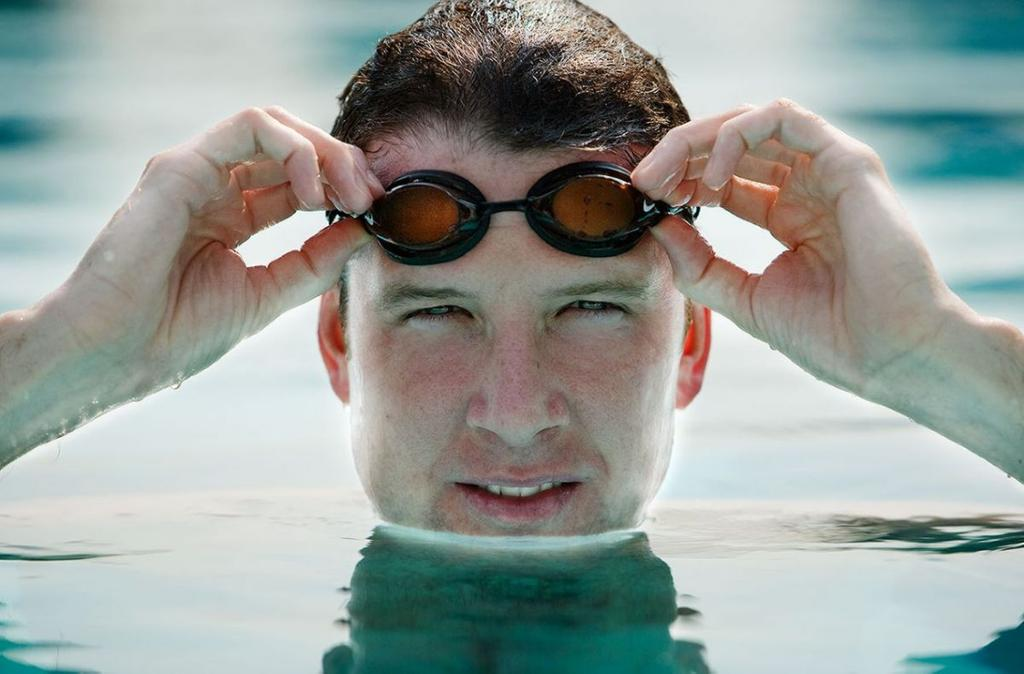face: (348, 120, 690, 564)
